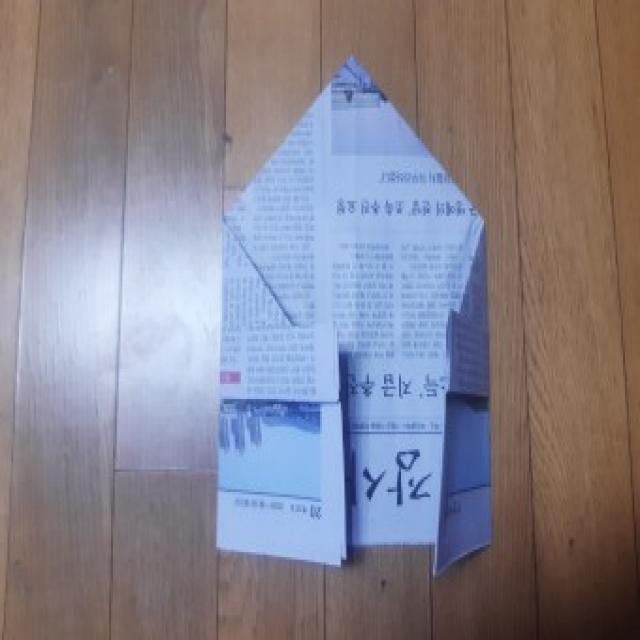Newspaper: (219, 63, 495, 578)
